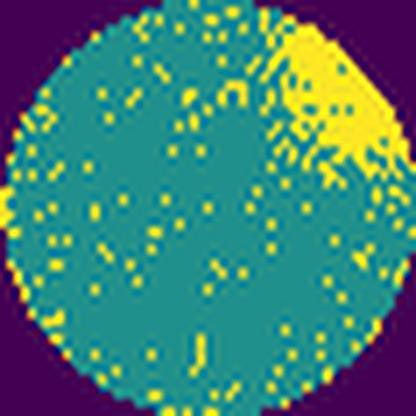Edge-Loc: (262, 12, 416, 186)
